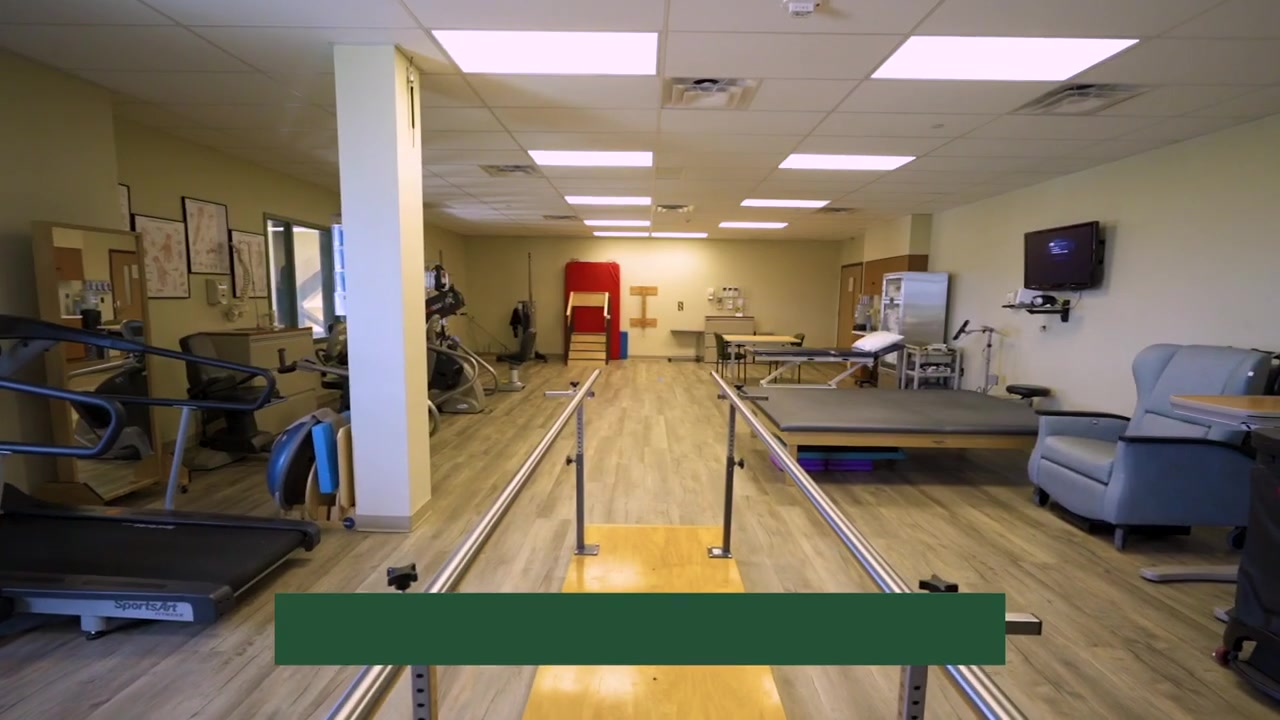TV: (1022, 222, 1103, 291)
chair: (177, 333, 281, 455)
dispenser: (206, 279, 230, 307)
exam_table: (745, 332, 905, 390)
overbed_table: (1148, 392, 1280, 620)
sofa: (1035, 341, 1273, 555)
